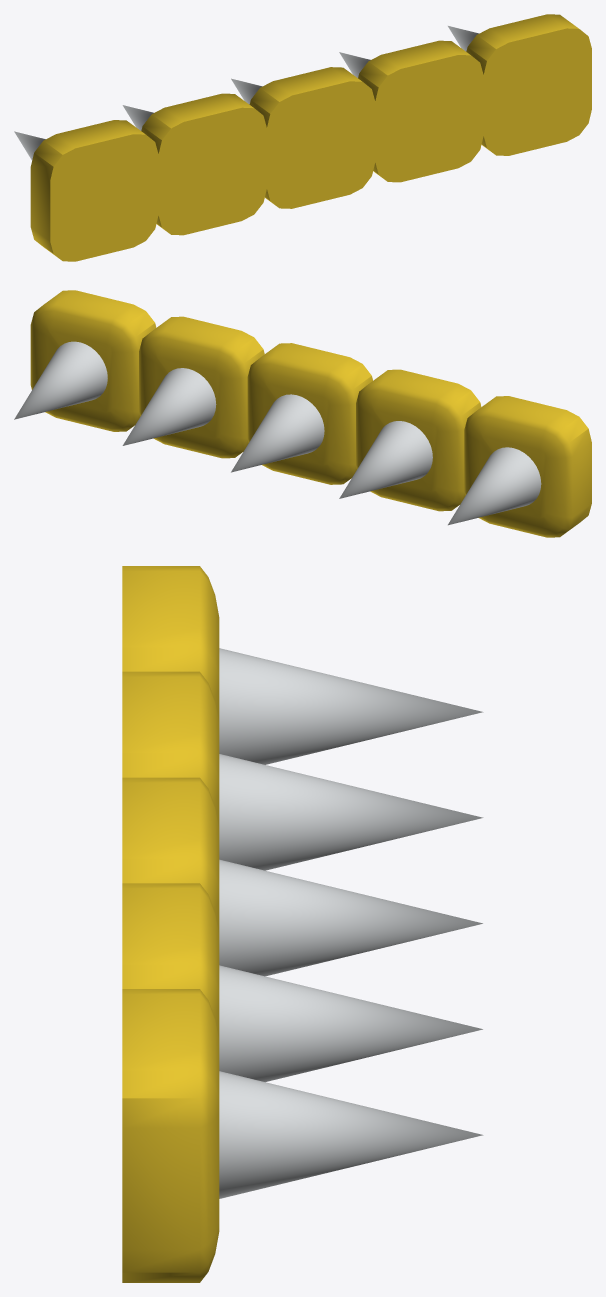
File: Spikes.fbx
The picture shows the model from 3 angles, top to bottom: view 1: azimuth 30°, elevation 25°; view 2: azimuth 150°, elevation 25°; view 3: azimuth 270°, elevation 25°; orthographic projection. The views are drawn at different scales.
Parts seen in each view (by area): view 1: Pinchos; view 2: Pinchos; view 3: Pinchos.
Part boxes in pixels (box(x1,y1,x2,y2)): Pinchos: box(14, 14, 591, 261); Pinchos: box(14, 290, 591, 537); Pinchos: box(122, 566, 483, 1282).
Size of the model in its own units: 46.85 by 9.37 by 13.54.
